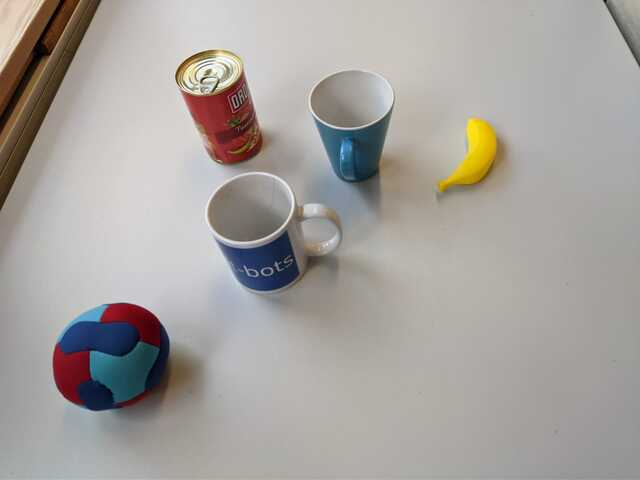005_tomato_soup_can: (172, 45, 271, 168)
011_banana: (436, 113, 502, 194)
025_mug: (203, 169, 347, 298), (302, 63, 397, 186)
057_racquetball: (49, 299, 178, 413)
